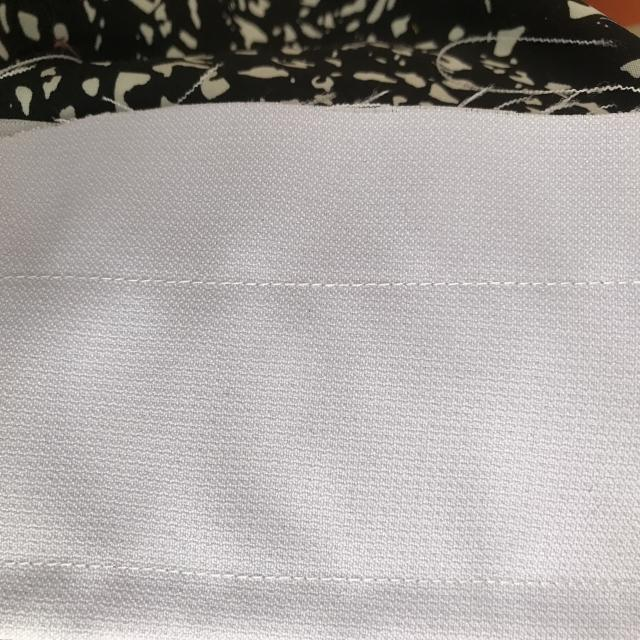good: (26, 269, 584, 295), (278, 572, 393, 587)
